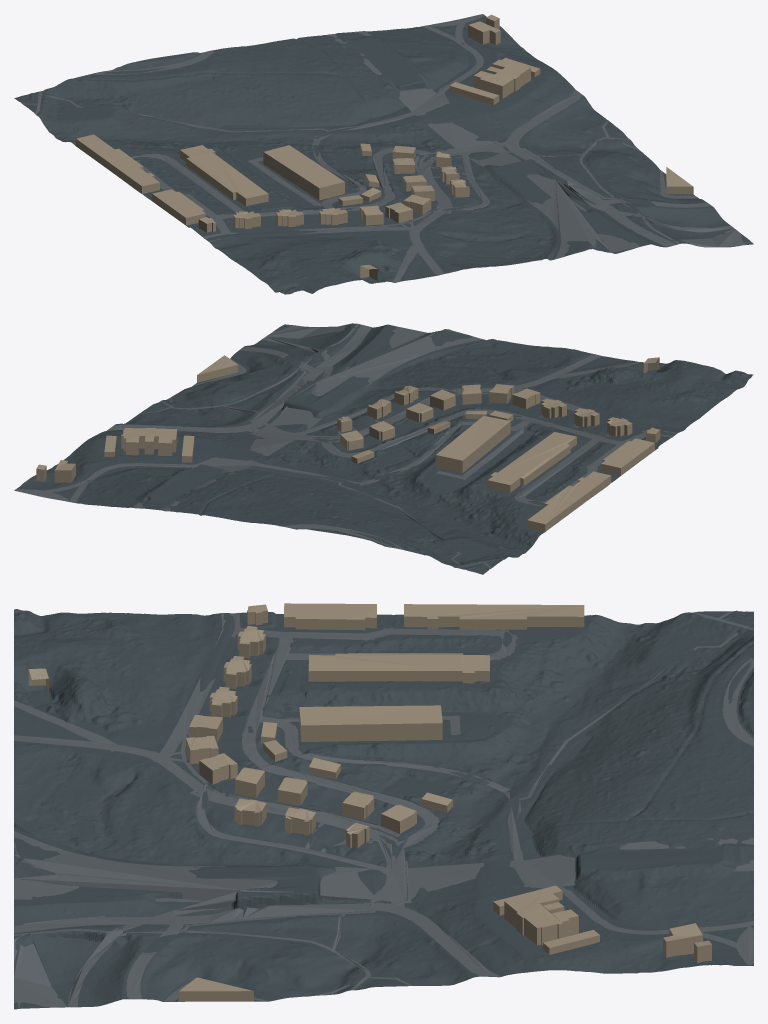
Rendered from epsg26910-1423-10895.lod0.glb.
3 views of the same model, one above another, from view 1: azimuth 30°, elevation 25°; view 2: azimuth 150°, elevation 25°; view 3: azimuth 270°, elevation 25° (orthographic). The views are drawn at different scales.
Visible parts, largest first — view 1: epsg26910-1423-10895-lod0; view 2: epsg26910-1423-10895-lod0; view 3: epsg26910-1423-10895-lod0.
Boxes of the visible parts, <box> form: epsg26910-1423-10895-lod0: <box>14,14,753,294</box>; epsg26910-1423-10895-lod0: <box>14,323,753,574</box>; epsg26910-1423-10895-lod0: <box>14,603,753,1009</box>.
Size of the model in its own units: 384 by 55.2 by 384.
